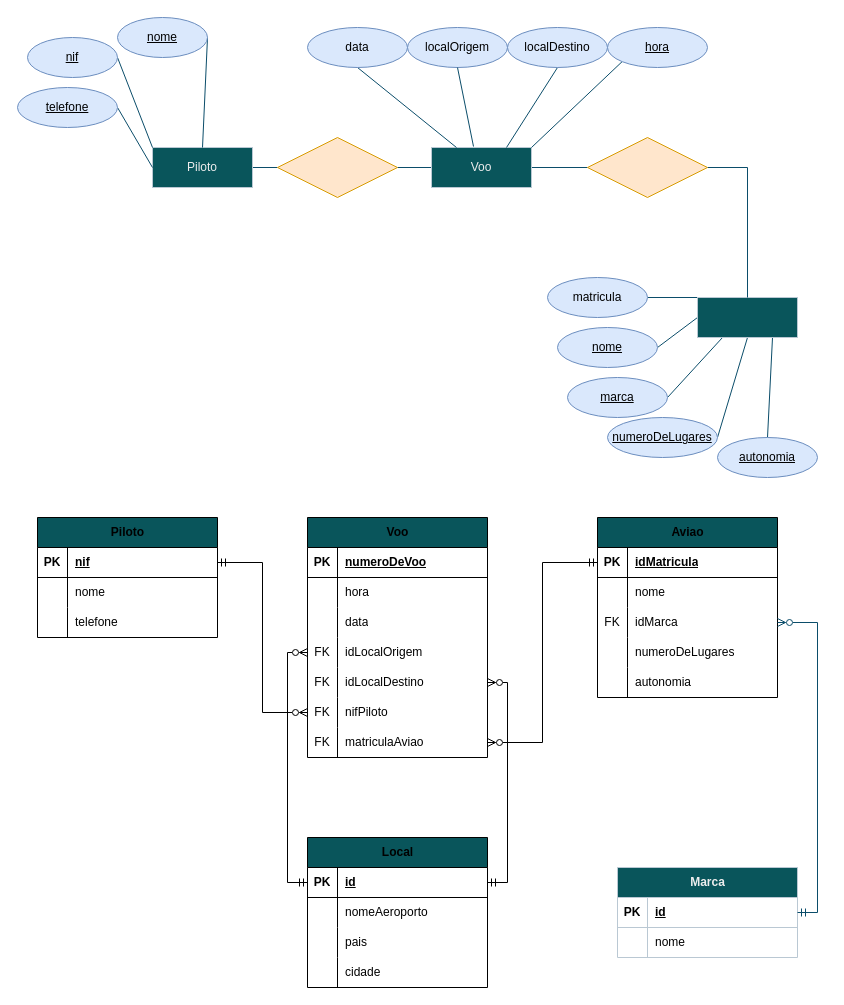
Some shapes in this 844 by 1005 pixel diagram are drawn without their labels. The shapes that lost their labels are listed below. From the top down, each one's centre as x and y in pixels, then its label:
(x=337, y=167): PILOTA
(x=647, y=167): REALIZA
(x=747, y=317): Avião
